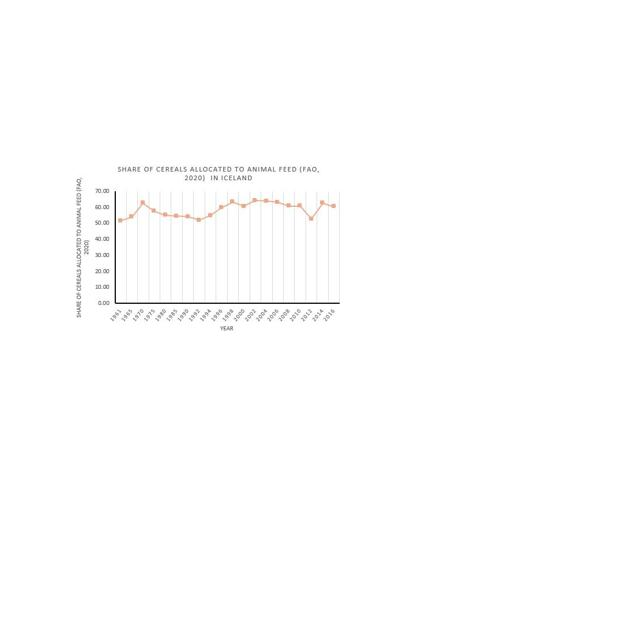Graph: (72, 160, 346, 335)
